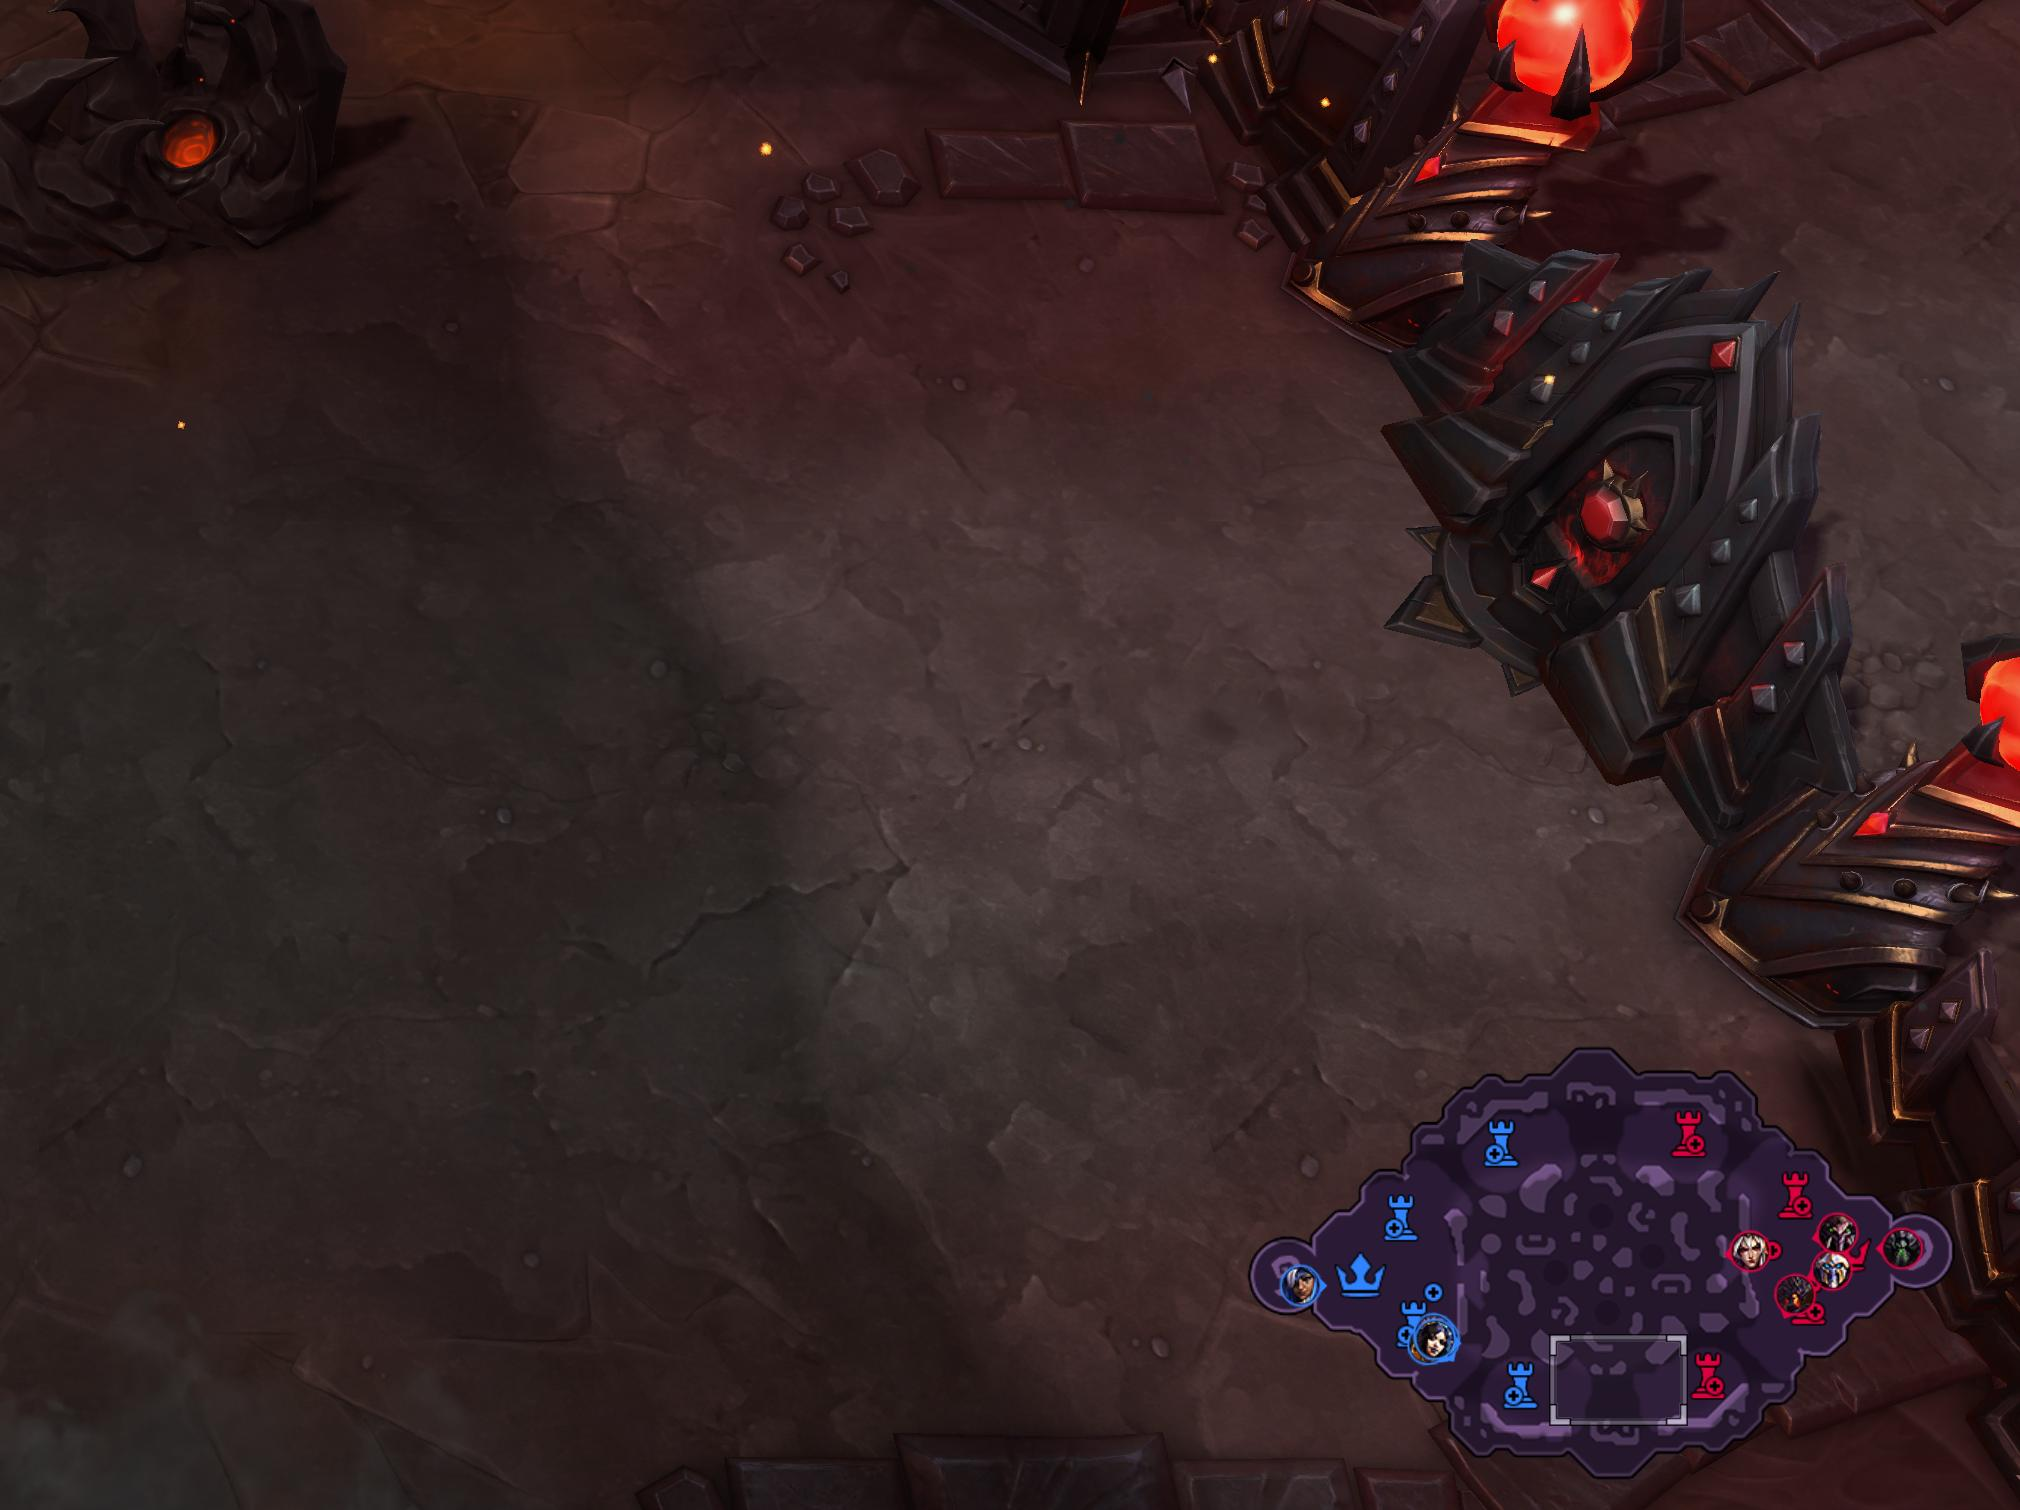blue player: (1402, 1312, 1458, 1367), (1278, 1262, 1320, 1307)
red player: (1726, 1229, 1775, 1271), (1815, 1211, 1860, 1255), (1881, 1226, 1926, 1270), (1775, 1273, 1817, 1317), (1417, 1318, 1451, 1359), (1818, 1252, 1849, 1287)
